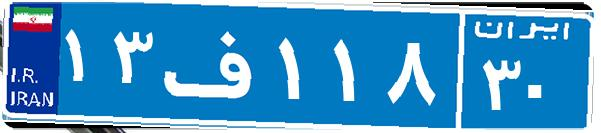0: (525, 38, 570, 115)
1: (273, 28, 330, 110), (330, 28, 385, 110), (57, 26, 110, 107)
3: (475, 38, 525, 113), (110, 28, 158, 105)
8: (385, 28, 445, 110)
ف: (158, 15, 273, 115)
